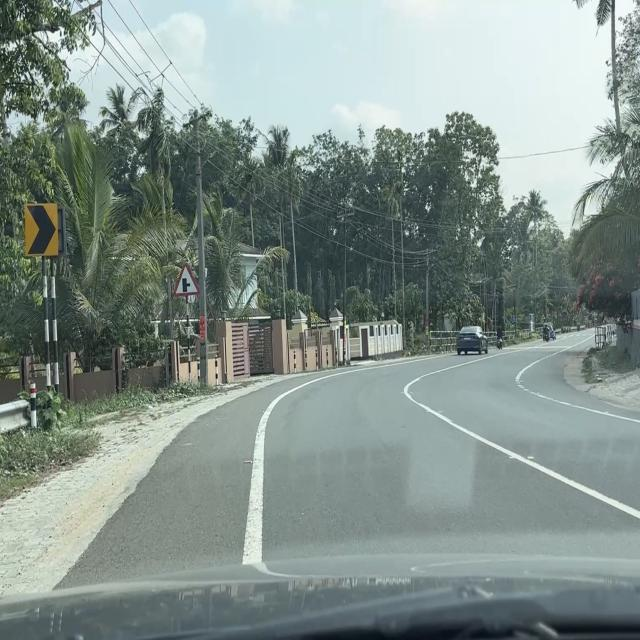SIDE_ROAD_RIGHT: (174, 262, 201, 298)
TURN_RIGHT: (24, 202, 60, 257)
